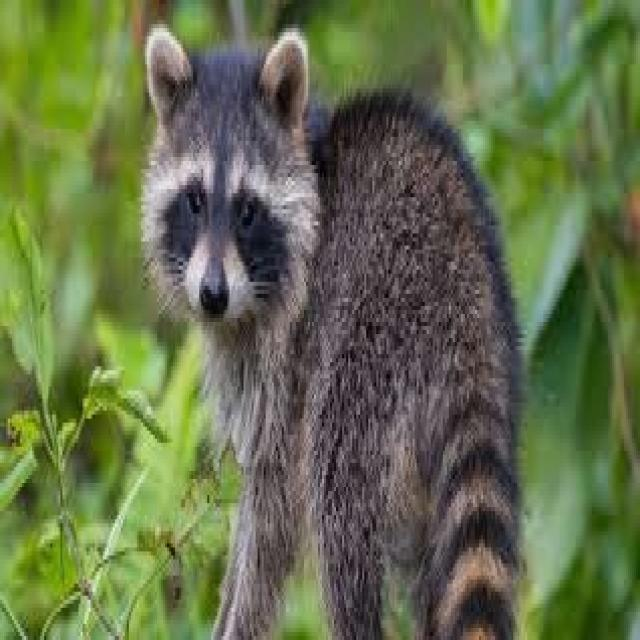raccoon: (143, 24, 521, 636)
